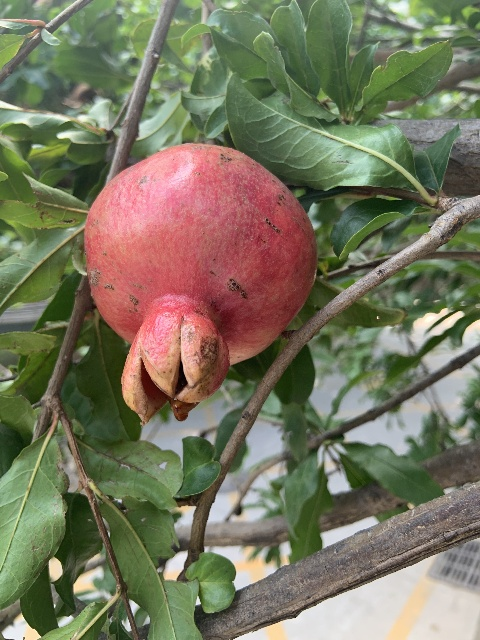ripe: (83, 143, 316, 424)
